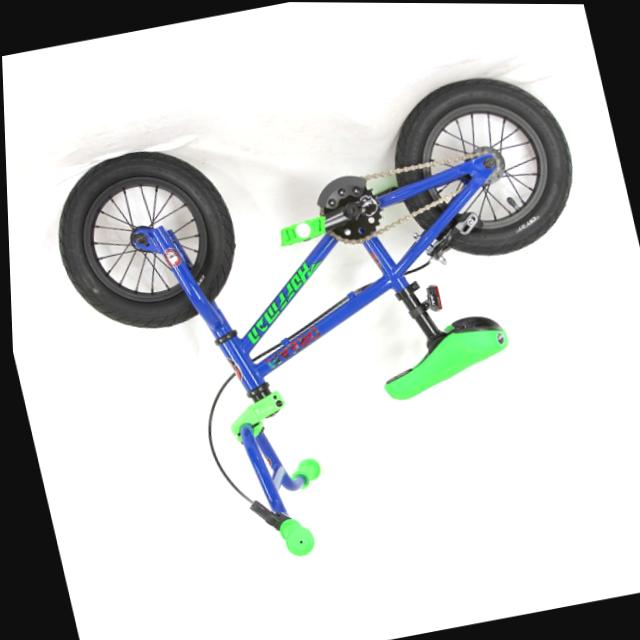bmx-bike: (33, 67, 640, 590)
